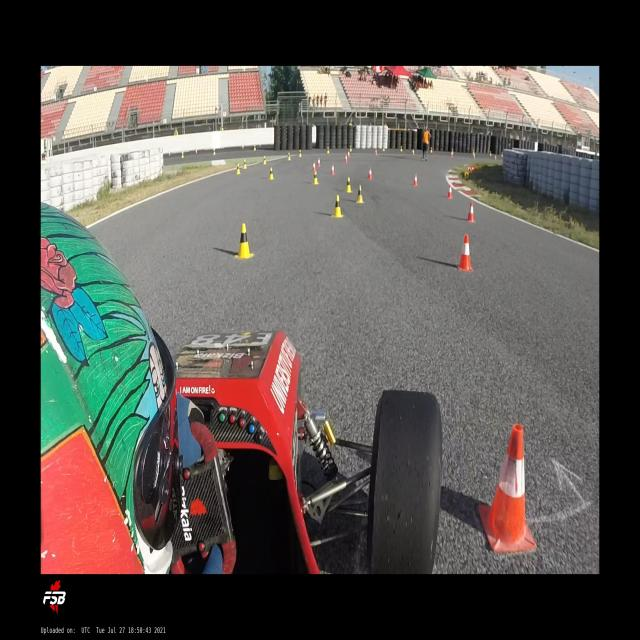orange_cone: (478, 423, 535, 553), (458, 233, 473, 272), (466, 201, 476, 223), (446, 184, 453, 200), (330, 163, 334, 176), (414, 174, 418, 187), (368, 167, 372, 180), (312, 161, 316, 171), (317, 157, 321, 167), (344, 153, 348, 163), (374, 149, 378, 156), (412, 148, 415, 156)
yellow_cone: (234, 223, 254, 259), (332, 193, 343, 218), (356, 184, 364, 203), (346, 176, 352, 193), (268, 167, 275, 180), (313, 171, 319, 185), (242, 159, 248, 169), (236, 163, 240, 175), (287, 152, 291, 160), (298, 149, 302, 157), (263, 155, 266, 165), (349, 144, 352, 153), (326, 146, 329, 154), (400, 144, 402, 152), (383, 145, 385, 151)
